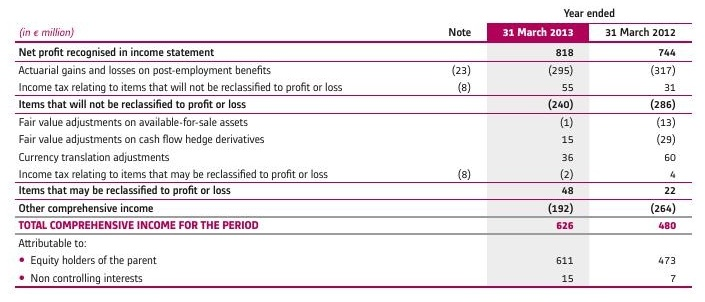table: (0, 0, 705, 302)
